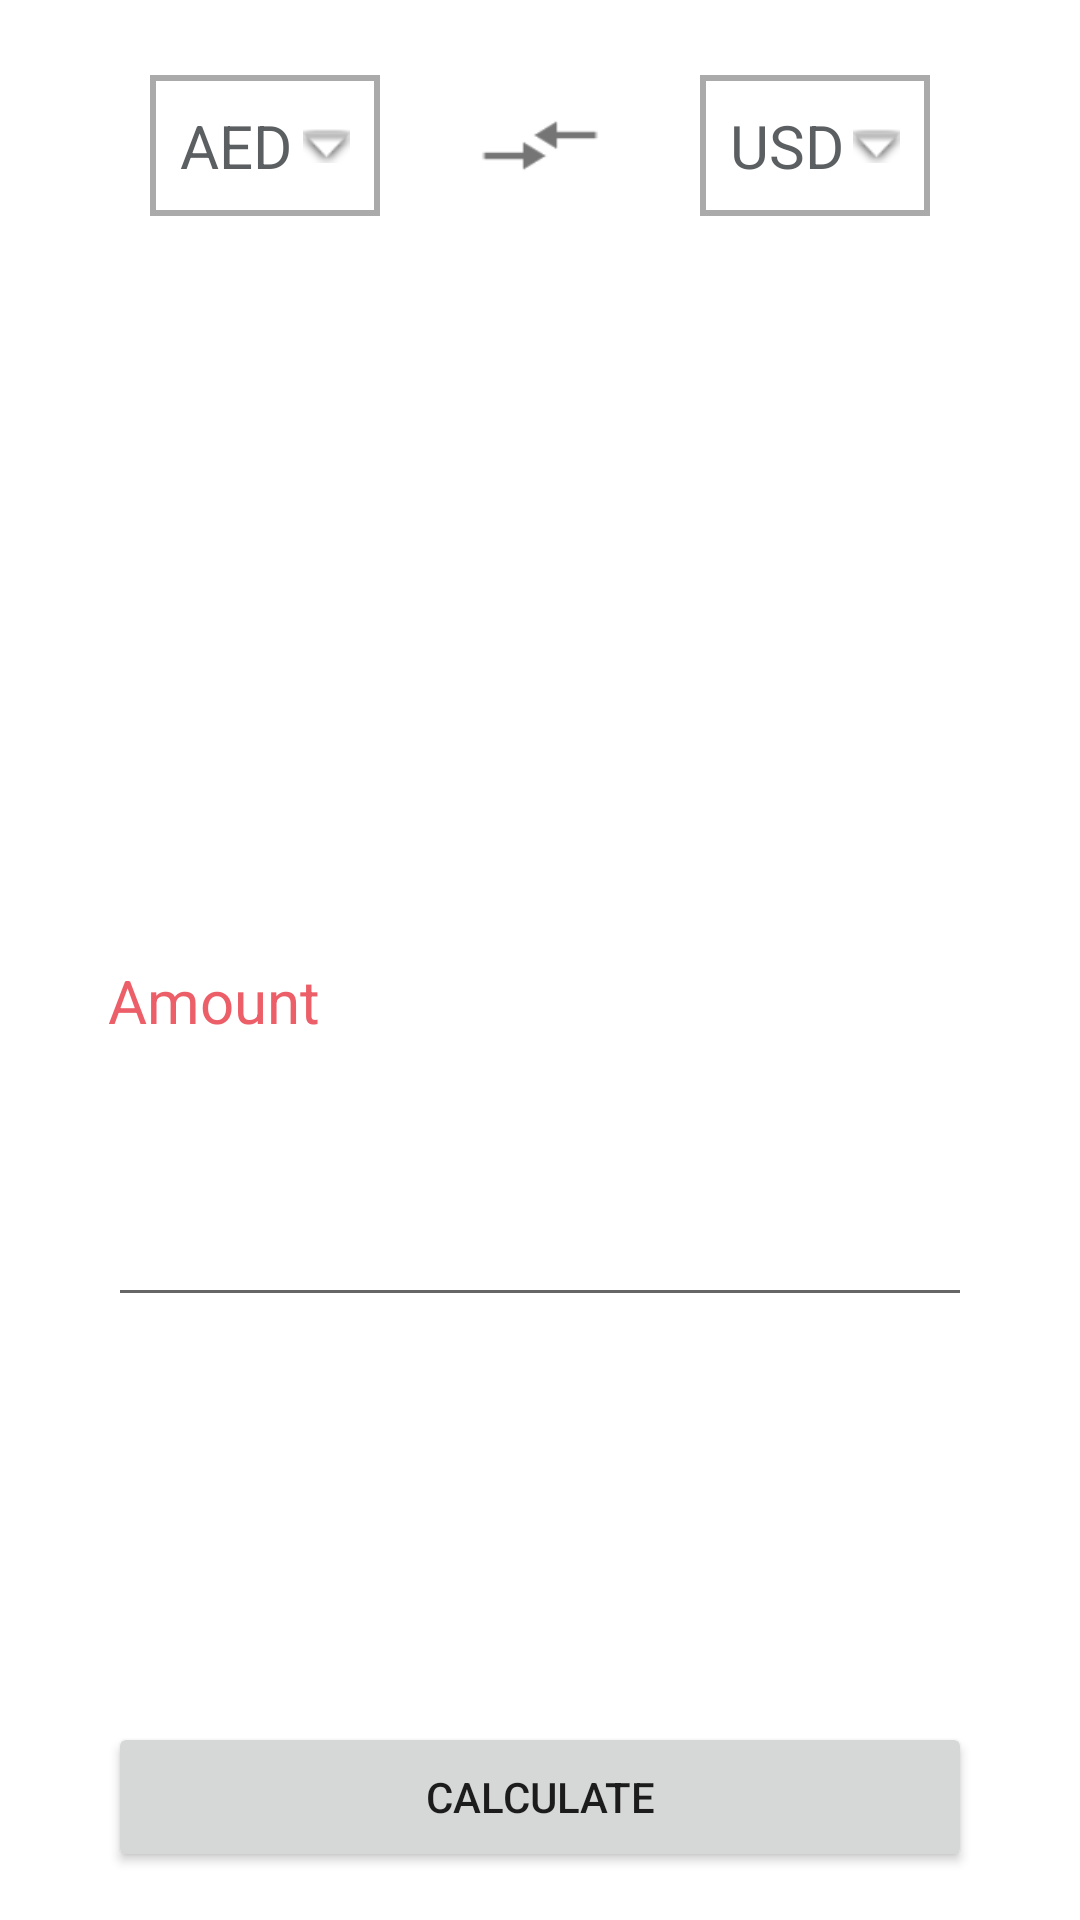

Screen size 1080 x 1920. Icon name, then its center in pixels as point (x, y):
compare arrows: point (540, 145)
